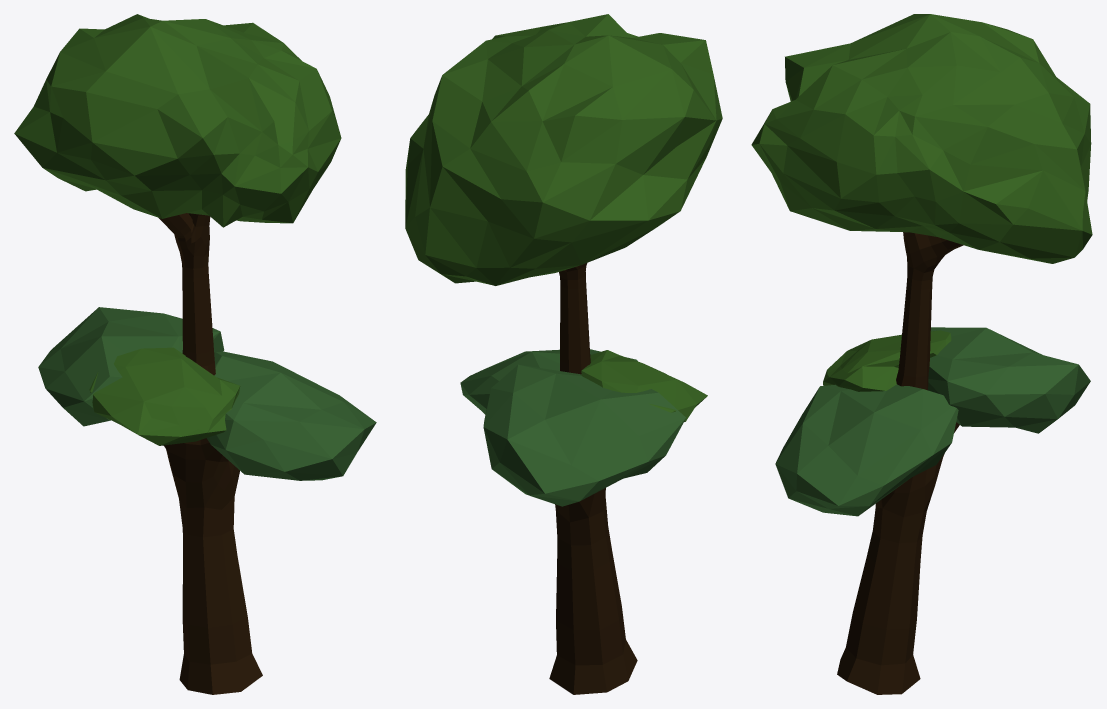
The model's file is jungle_tree2.fbx.
3 renders of one model, left to right at view 1: azimuth 30°, elevation 25°; view 2: azimuth 150°, elevation 25°; view 3: azimuth 270°, elevation 25°, orthographic. The views are drawn at different scales.
Visible parts, largest first — view 1: Plane; view 2: Plane; view 3: Plane.
Boxes of the visible parts, <box> form: Plane: <box>14,14,376,694</box>; Plane: <box>405,14,722,694</box>; Plane: <box>751,14,1092,694</box>.
Size of the model in its own units: 383 by 883 by 423.
